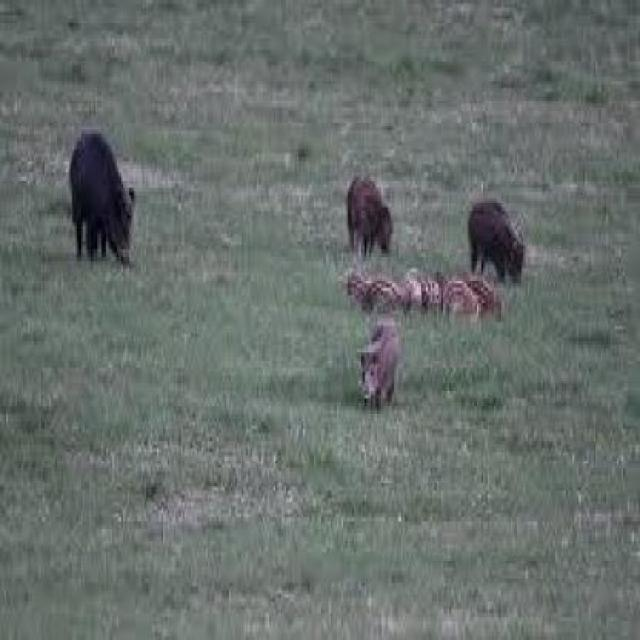Wild Boar: (67, 124, 138, 271), (340, 263, 506, 322), (467, 192, 528, 285), (357, 318, 400, 422), (344, 171, 391, 260)
